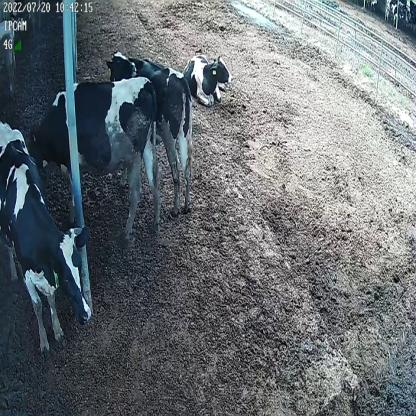cow: (0, 113, 92, 360), (29, 75, 164, 243), (100, 48, 193, 213), (184, 40, 233, 107)
